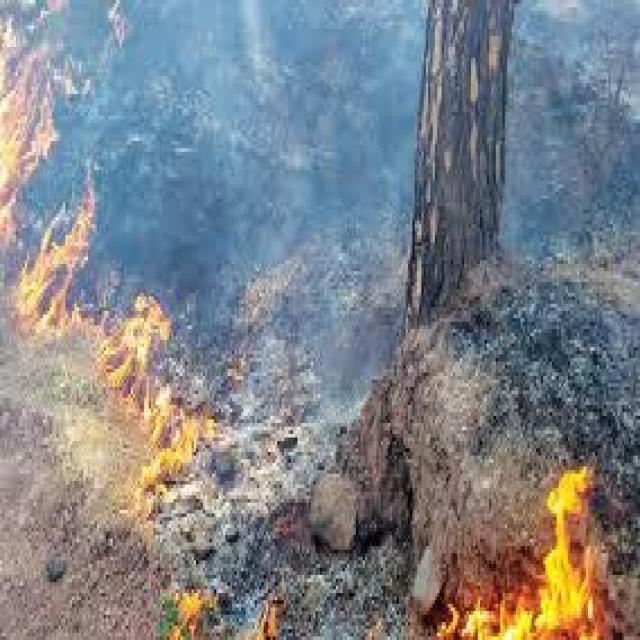Fire: (0, 0, 95, 338), (437, 470, 613, 640), (96, 293, 216, 517), (173, 593, 216, 640)
Smoke: (117, 22, 416, 263)
